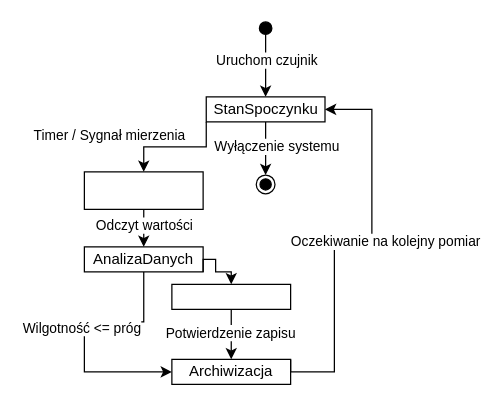
This 501x406 diagram has some shape labels left out. The shapes that lost their labels are listed below. From the top down, each one's centre as x and y in pixels, then its label:
(143,190): Pomiar wilgotności
(231,296): WysłanieDanych
